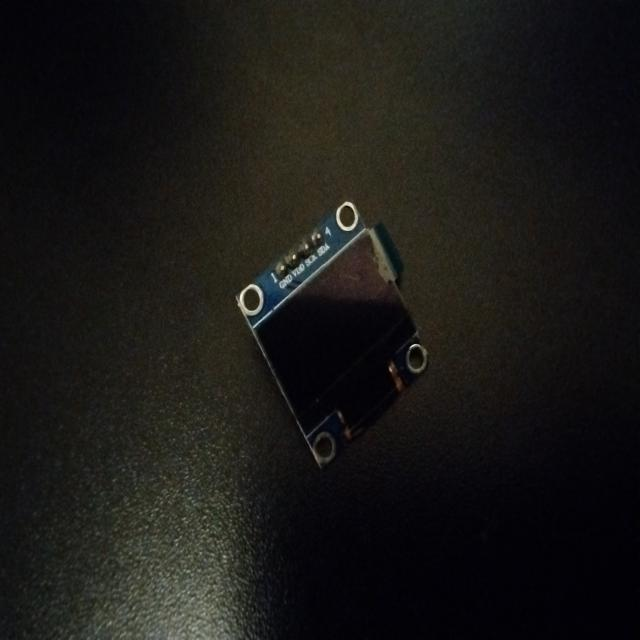oled: (235, 183, 442, 475)
